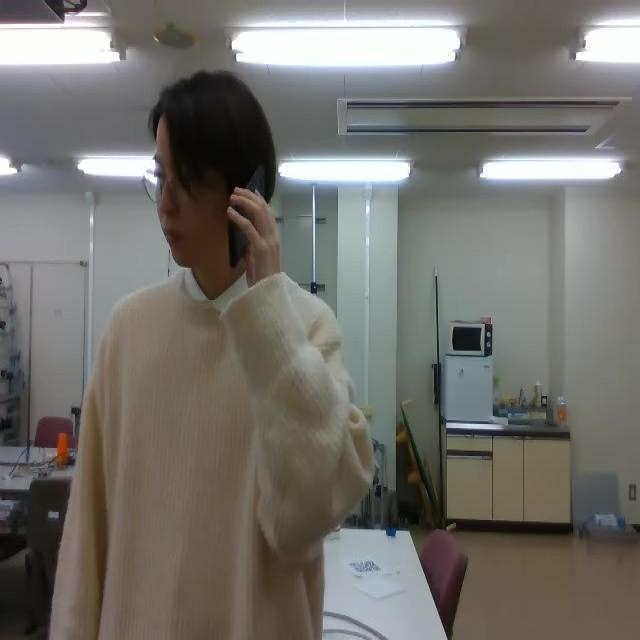Phone: (225, 162, 267, 270)
